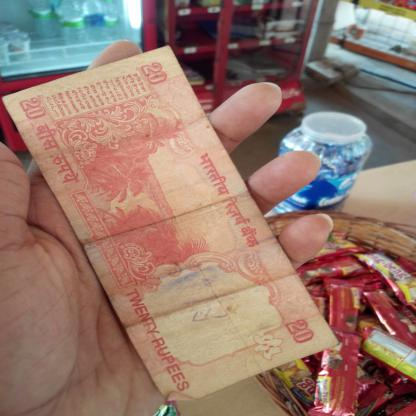Old20Back: (0, 44, 341, 402)
